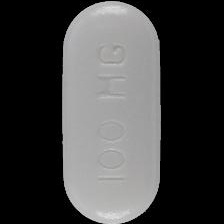55253-801: (0, 0, 224, 224)
